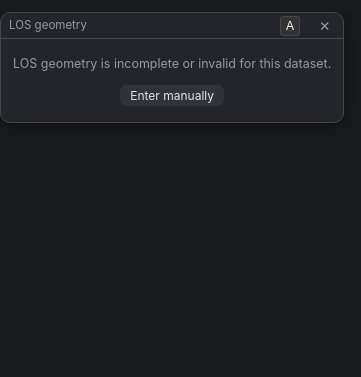
it: LOS metadata availability › allows an explicit manual illustration and resets it for another layer
The width and height of the screenshot is (361, 377).
Later steps or results of the test are not shown.
Click the button "Enter manually" at (172, 95), box [120,85,224,106]
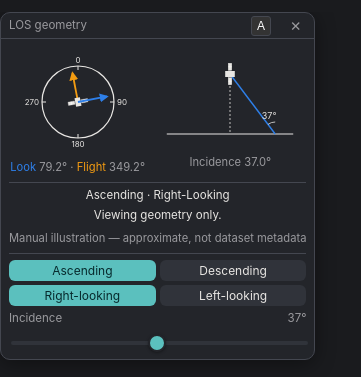
Now the text "Manual illustration — approximate, not dataset metadata" is shown, box [9,230,306,247]
Click the button "Left-looking" at (233, 296), box [160,285,306,306]
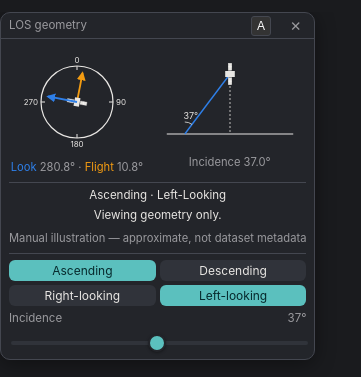
Now the text "ascending · left-looking" is shown, box [9,182,306,224]
